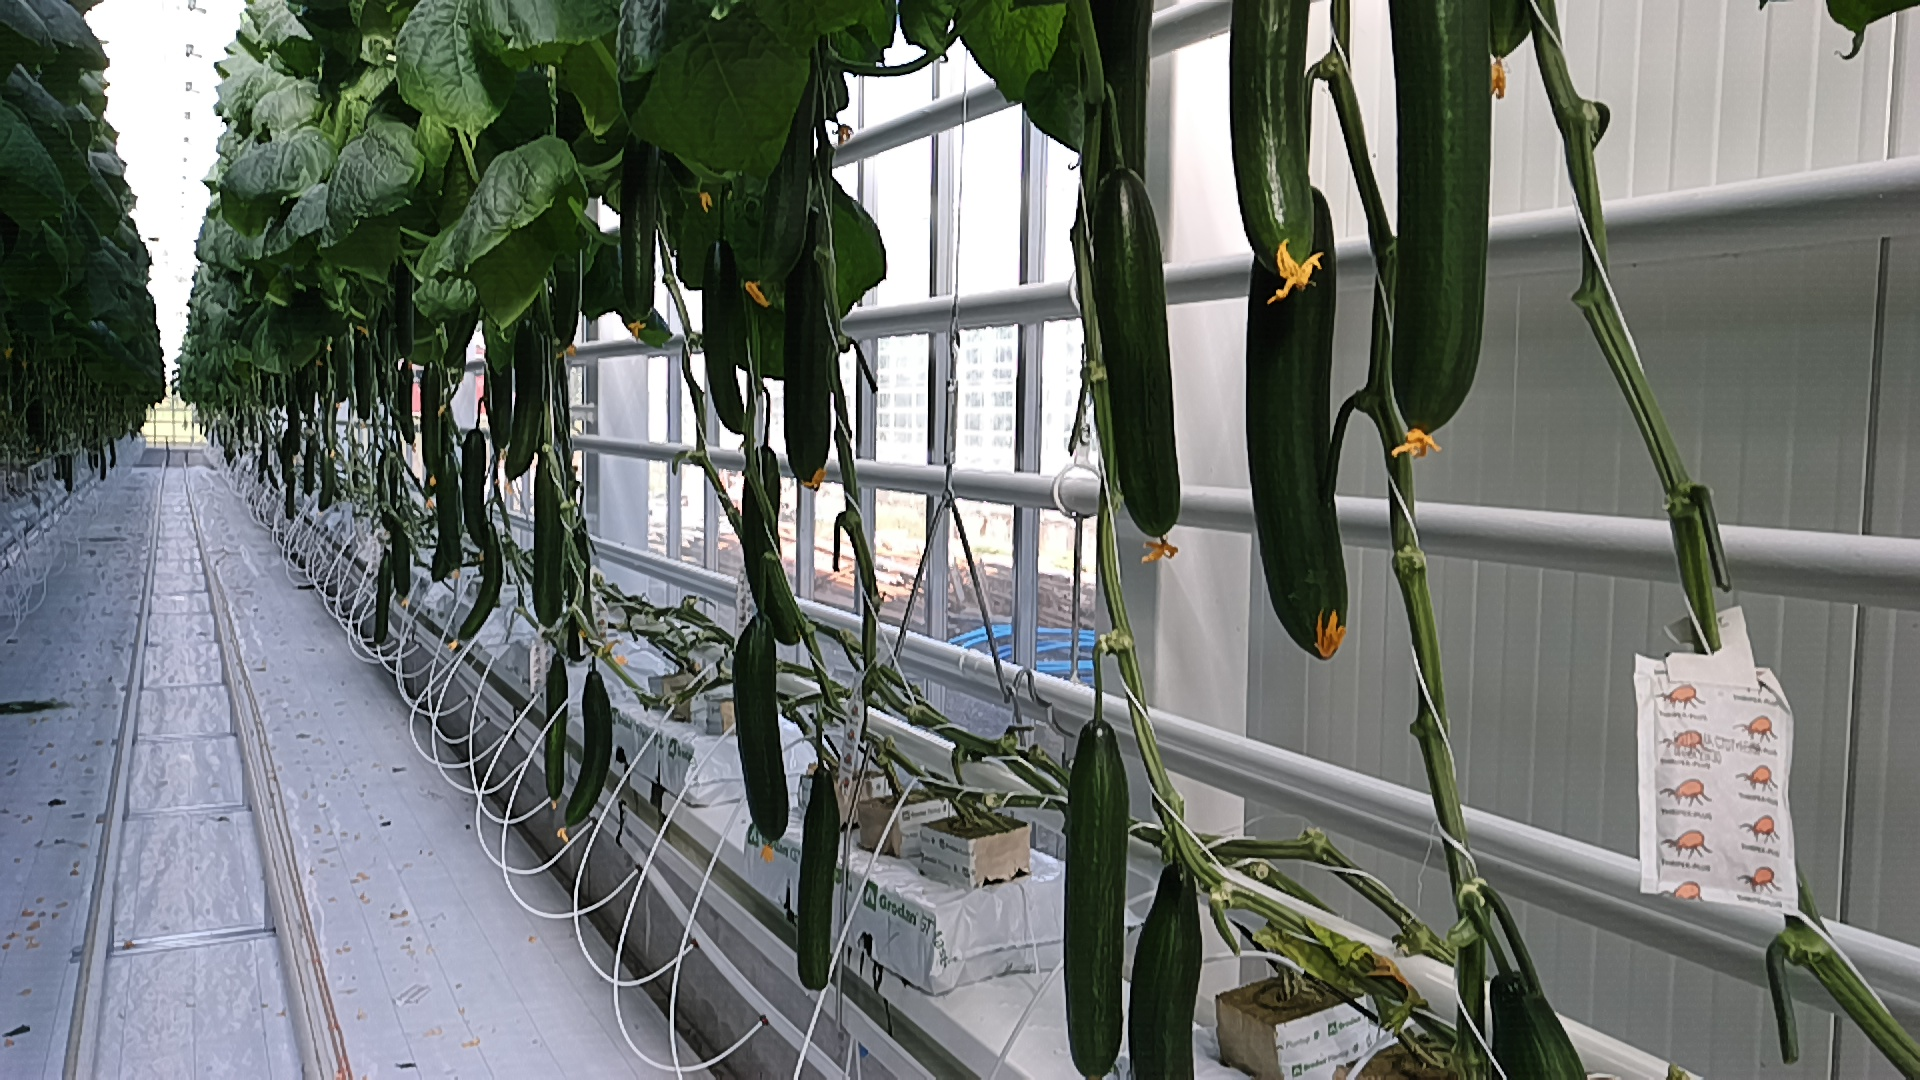gurka: (1242, 167, 1367, 683), (1076, 166, 1197, 562), (1058, 711, 1130, 1077), (729, 605, 799, 851), (793, 752, 847, 996), (541, 649, 566, 818)
